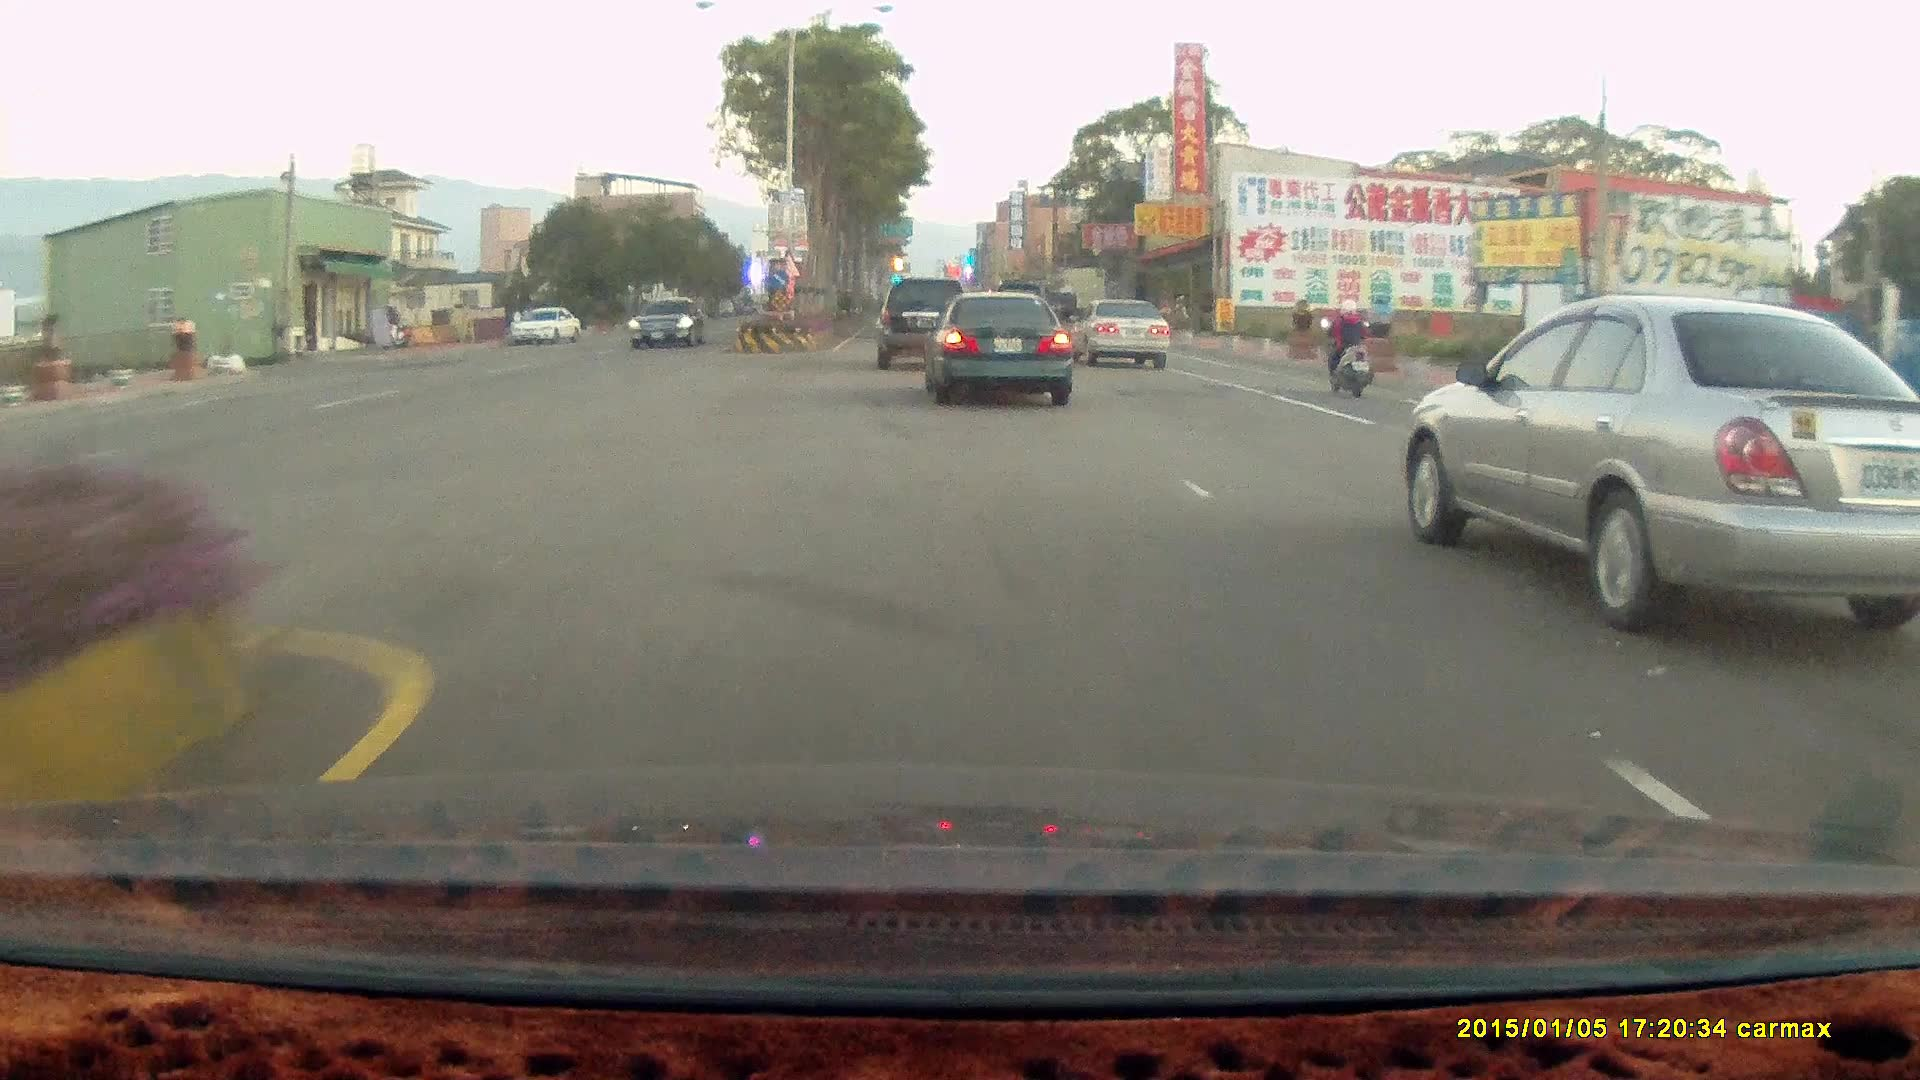rider: (1310, 290, 1389, 406), (1317, 296, 1373, 396)
vehicle: (1402, 295, 1920, 638), (919, 288, 1073, 403), (927, 298, 1075, 406), (880, 274, 976, 374), (877, 277, 971, 369), (1069, 297, 1172, 369), (1071, 301, 1174, 369), (630, 297, 709, 351), (628, 296, 706, 348), (511, 306, 583, 347), (510, 305, 582, 343)
